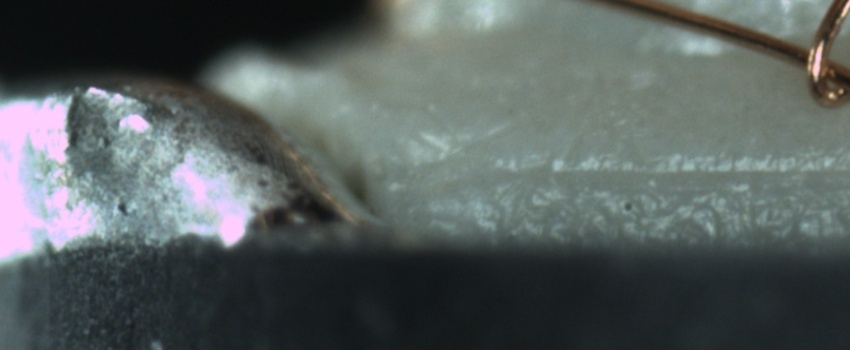DL: (448, 140, 850, 204)
